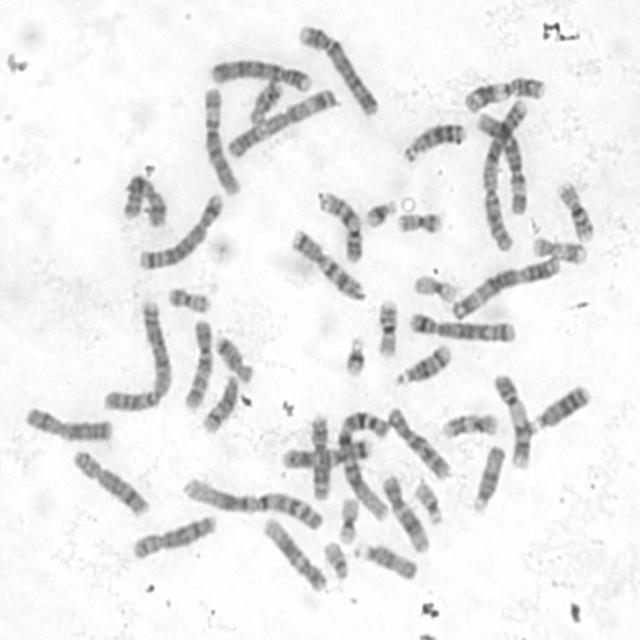A1: (178, 470, 326, 533), (332, 404, 393, 523)
A2: (99, 294, 174, 414), (476, 95, 530, 255)
A3: (222, 81, 341, 159), (447, 250, 565, 322)
B4: (293, 17, 384, 118), (207, 52, 315, 93)
B5: (136, 188, 226, 272), (405, 306, 518, 344)
C10: (383, 399, 454, 482), (178, 313, 216, 412)
C11: (460, 70, 550, 114), (306, 409, 334, 502)
C12: (257, 511, 328, 594), (379, 469, 432, 554)
C6: (472, 104, 531, 218), (198, 80, 245, 197)
C7: (287, 222, 367, 302), (279, 434, 375, 472)
C8: (69, 444, 152, 518), (128, 508, 219, 561)
C9: (490, 368, 534, 471), (314, 184, 366, 264)
D13: (528, 378, 593, 432), (398, 115, 468, 163)
D14: (391, 338, 454, 388), (199, 368, 242, 436)
D15: (350, 536, 420, 582), (468, 439, 507, 514)
E16: (553, 175, 598, 243), (372, 292, 400, 359)
E17: (528, 229, 590, 266), (437, 407, 501, 441)
E18: (210, 328, 256, 384), (245, 72, 286, 126)
F19: (408, 268, 461, 305), (334, 491, 361, 546)
F20: (163, 280, 214, 314), (392, 205, 446, 235)
G21: (360, 192, 400, 230), (340, 329, 369, 379)
G22: (410, 474, 446, 526), (320, 536, 351, 582)
X: (20, 400, 117, 442), (119, 168, 171, 229)
